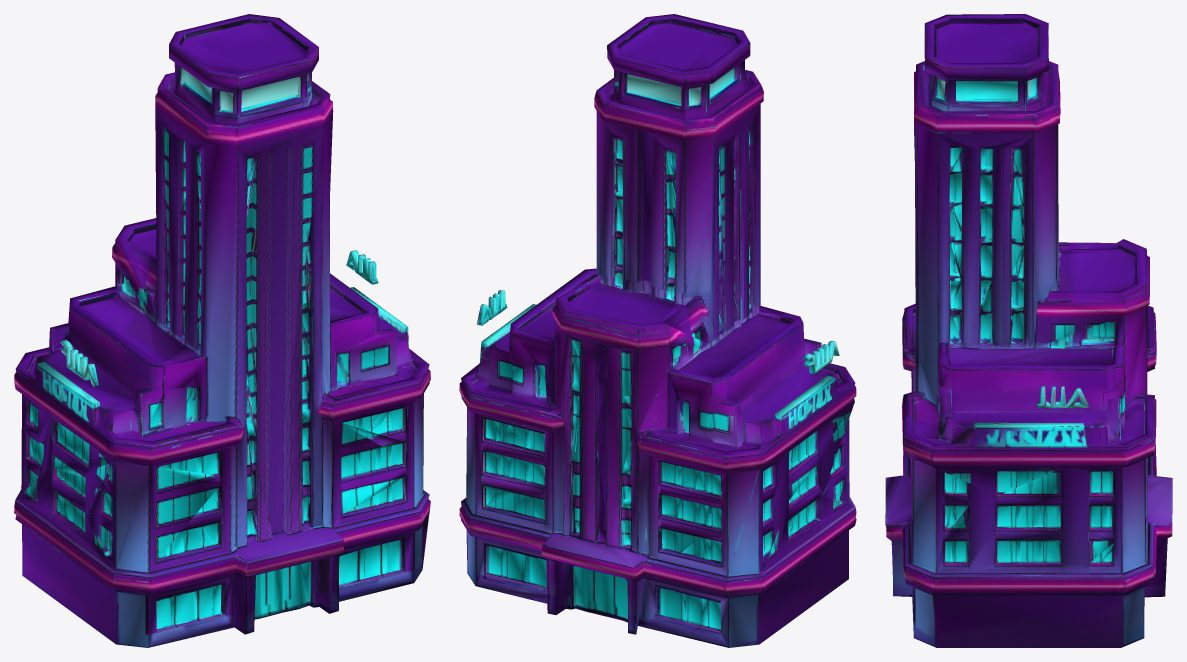
Rendered from building_hotel.glb.
3 views of the same model, side by side, from view 1: azimuth 30°, elevation 25°; view 2: azimuth 150°, elevation 25°; view 3: azimuth 270°, elevation 25° (orthographic). The views are drawn at different scales.
Parts seen in each view (by area): view 1: Mesh_0; view 2: Mesh_0; view 3: Mesh_0.
Part boxes in pixels (box(x1,y1,x2,y2)): Mesh_0: box(14, 14, 430, 647); Mesh_0: box(459, 14, 856, 647); Mesh_0: box(885, 14, 1172, 647).
Bounding box in the file's own units: 1.17 × 1.9 × 0.9251.
1 material, 1 textured.
